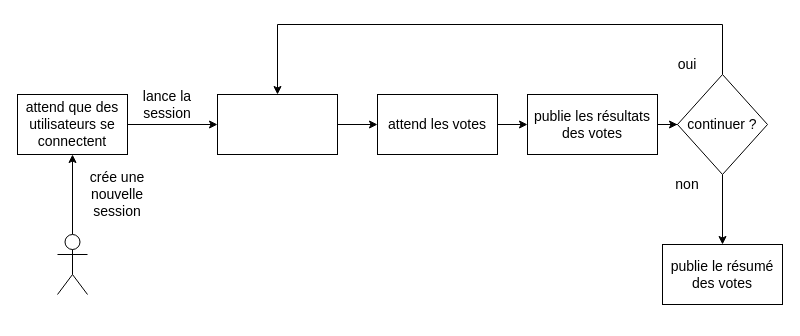
The diagram is 800 pixels wide and 336 high, and some of its shapes have lost their labels. Each missing label, with the box of its shape:
Crée une nouvelle feature: (216, 94, 338, 154)
Product Owner: (56, 234, 88, 294)
